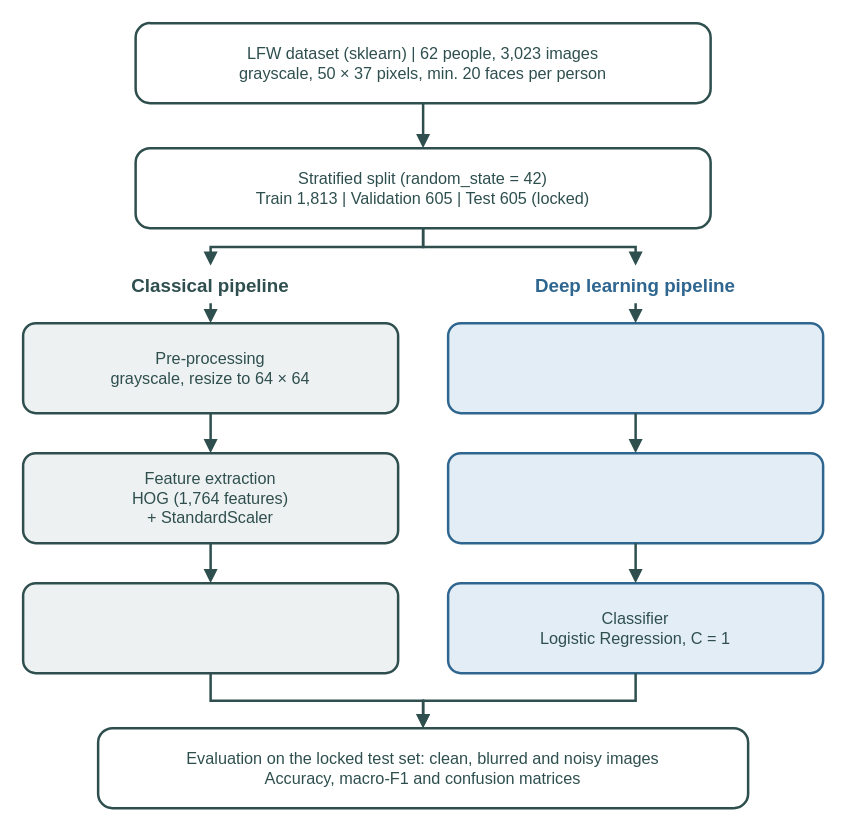
This 845x830 diagram has some shape labels left out. Here are the shapes that lost their labels. From the top down, the box of each, then its label:
(446, 321, 824, 414): Pre-processing grayscale to 3 channels, resize to 160 × 160, standardise
(446, 451, 824, 544): Feature extraction pretrained FaceNet (VGGFace2) 512-dimensional embedding
(21, 581, 399, 674): Classifier SVM, RBF kernel, C = 10
